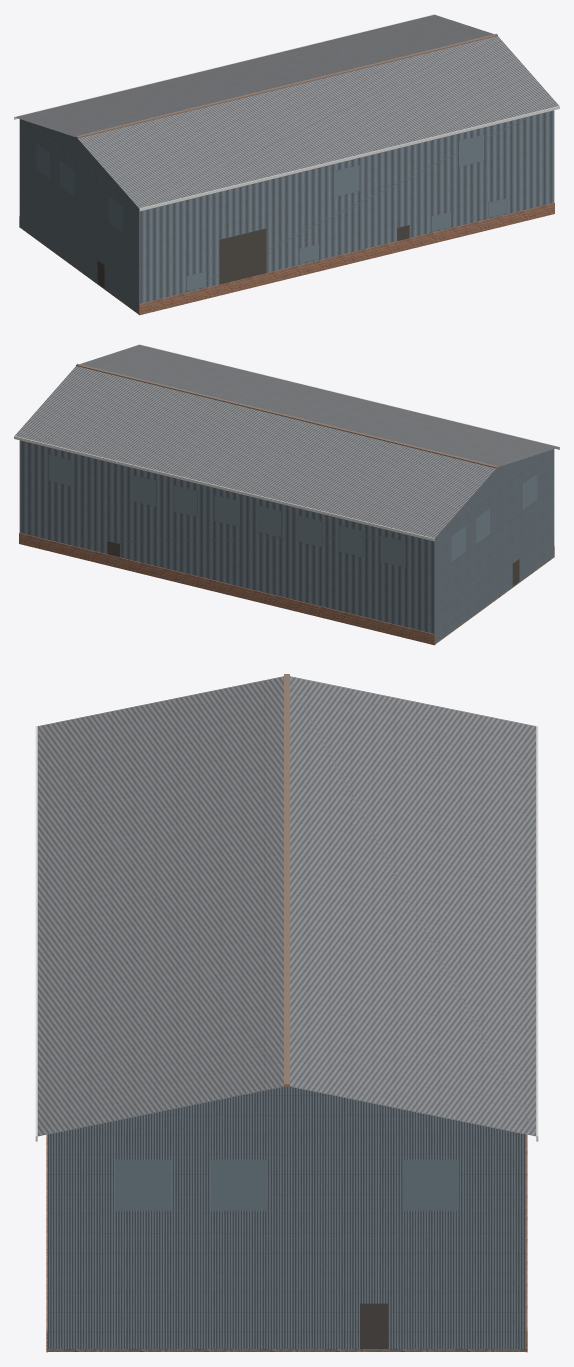
The model's file is ew-turbine-hall.zfix-v14.lod1.glb.
3 renders of one model, top to bottom at view 1: azimuth 30°, elevation 25°; view 2: azimuth 150°, elevation 25°; view 3: azimuth 270°, elevation 25°, orthographic. The views are drawn at different scales.
Parts seen in each view (by area): view 1: ew-turbine-hall; view 2: ew-turbine-hall; view 3: ew-turbine-hall.
Part boxes in pixels (box(x1,y1,x2,y2)): ew-turbine-hall: box(14, 14, 559, 315); ew-turbine-hall: box(14, 344, 559, 645); ew-turbine-hall: box(35, 674, 538, 1352).
Bounding box in the file's own units: 44.6 × 13.72 × 23.08.
5 materials, 4 textured.
